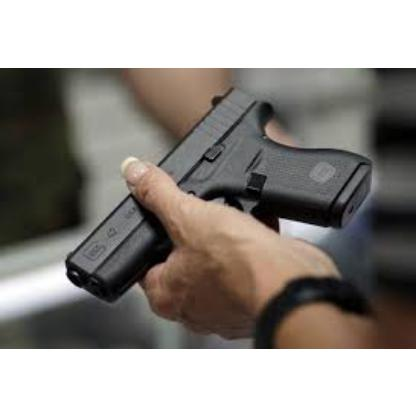gun: (63, 78, 375, 302)
